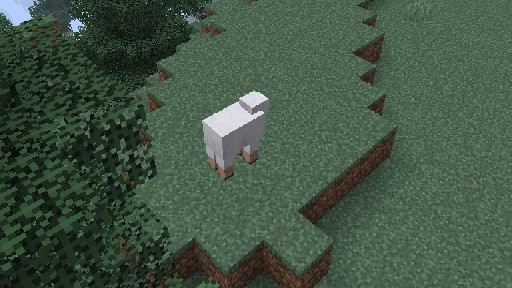sheep: (201, 90, 269, 180)
